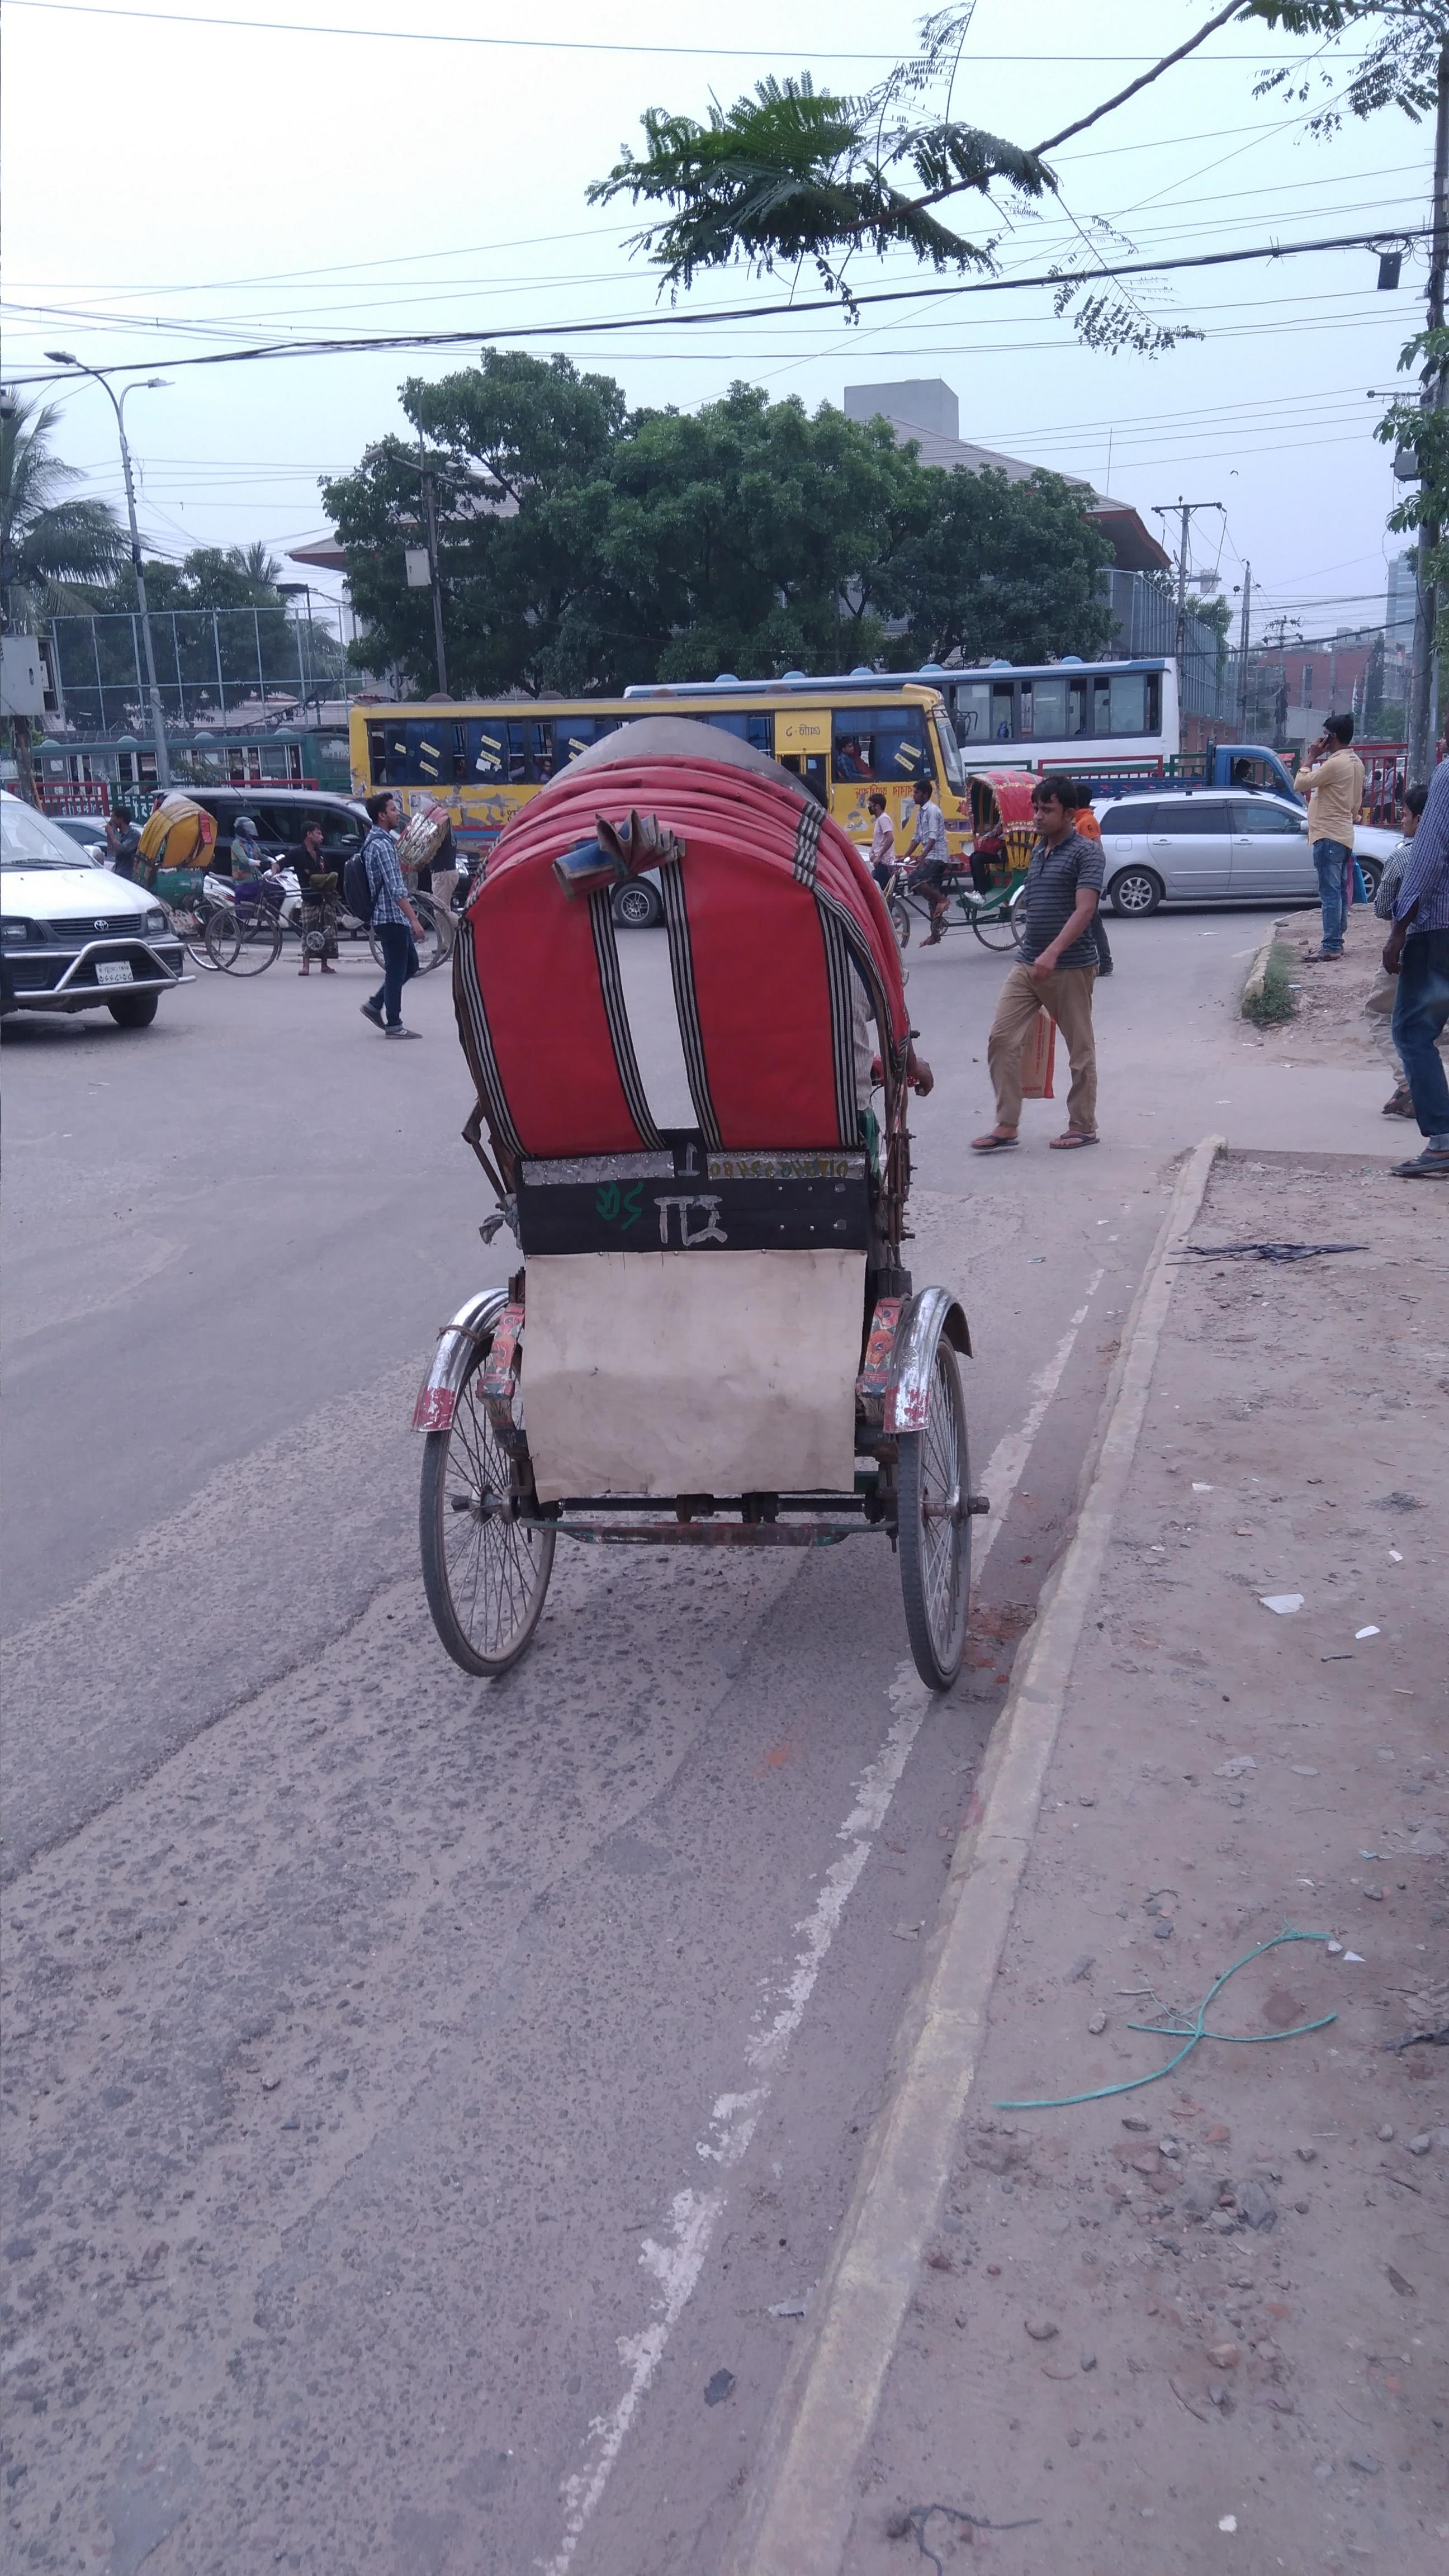Rickshaw: (425, 711, 1012, 1714), (97, 738, 253, 987), (908, 745, 1054, 943)
